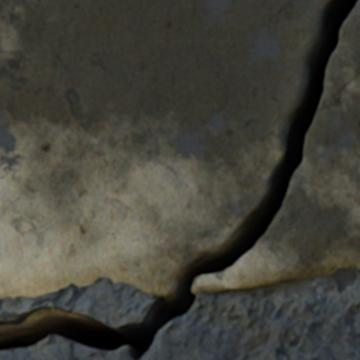broken_brick: (0, 0, 330, 297), (192, 0, 359, 293)
crack: (0, 0, 358, 359)
